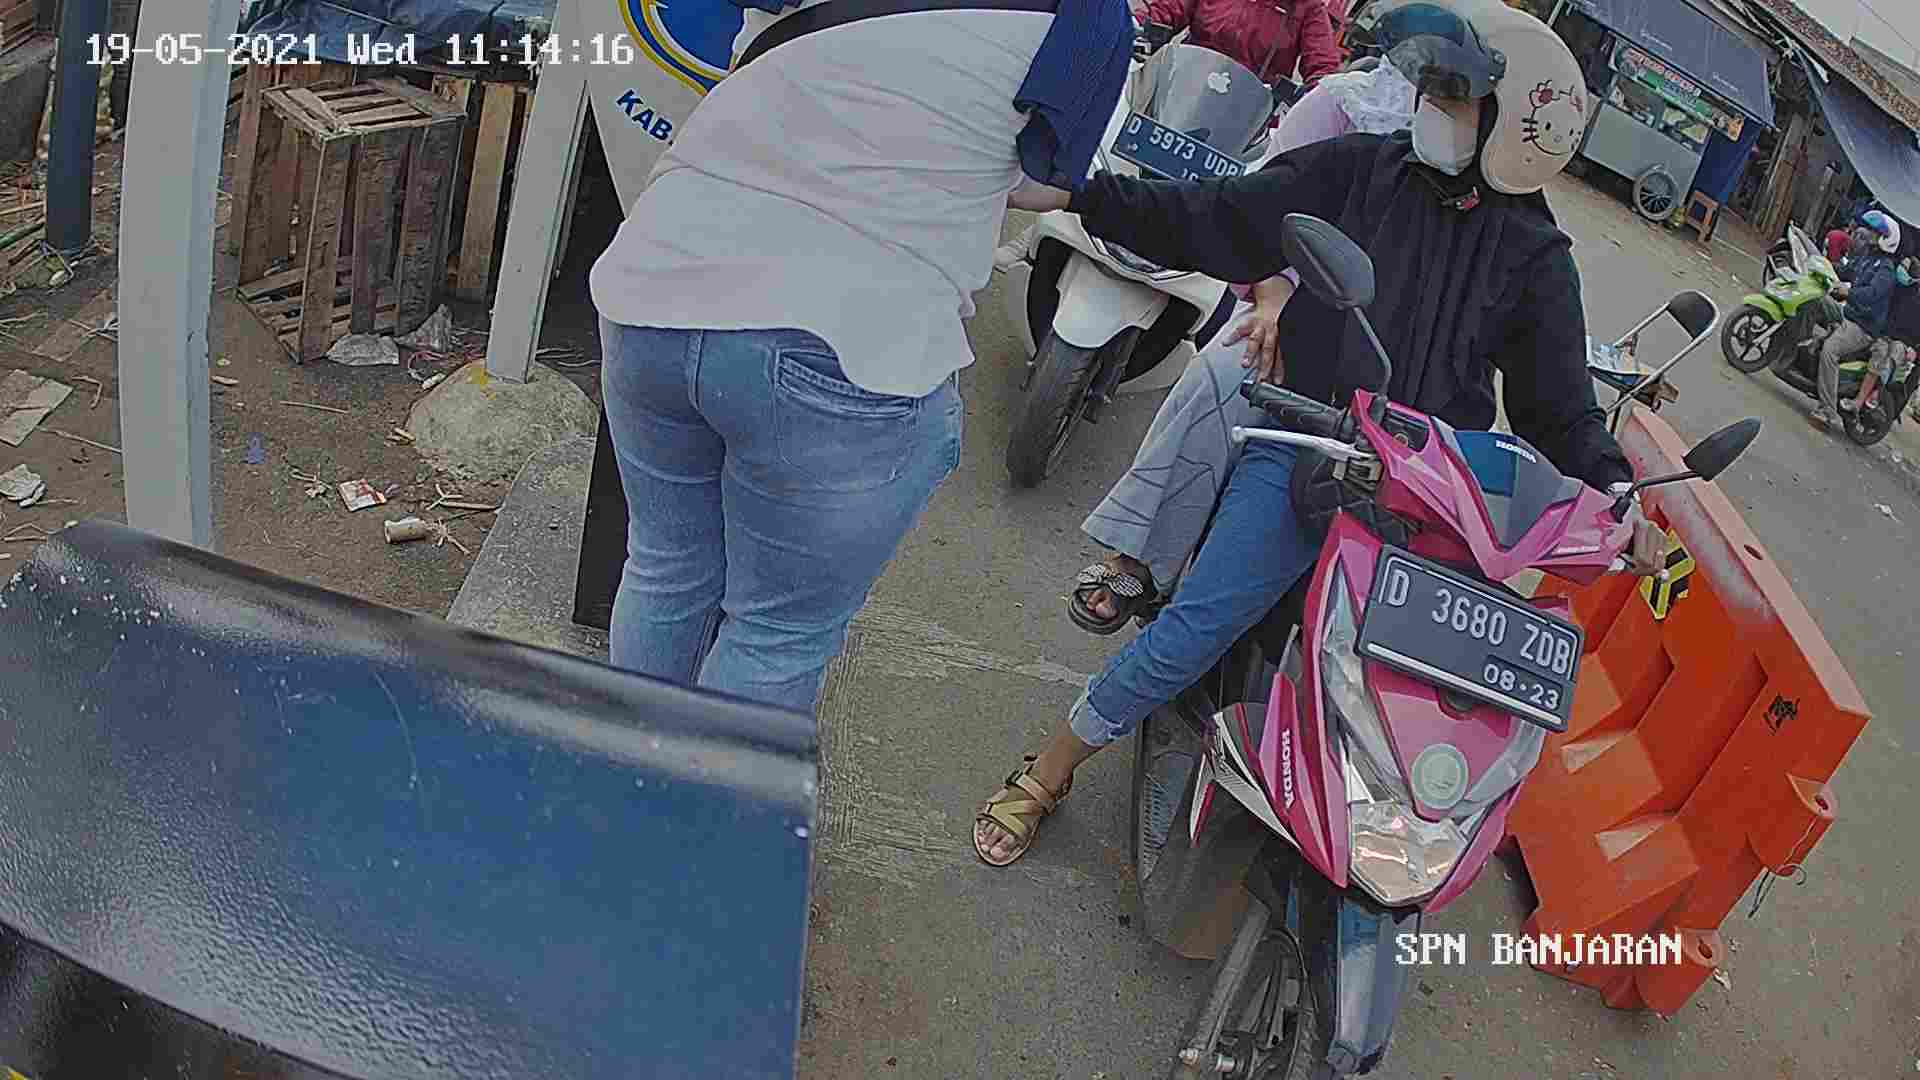motor: (1184, 371, 1568, 1080)
